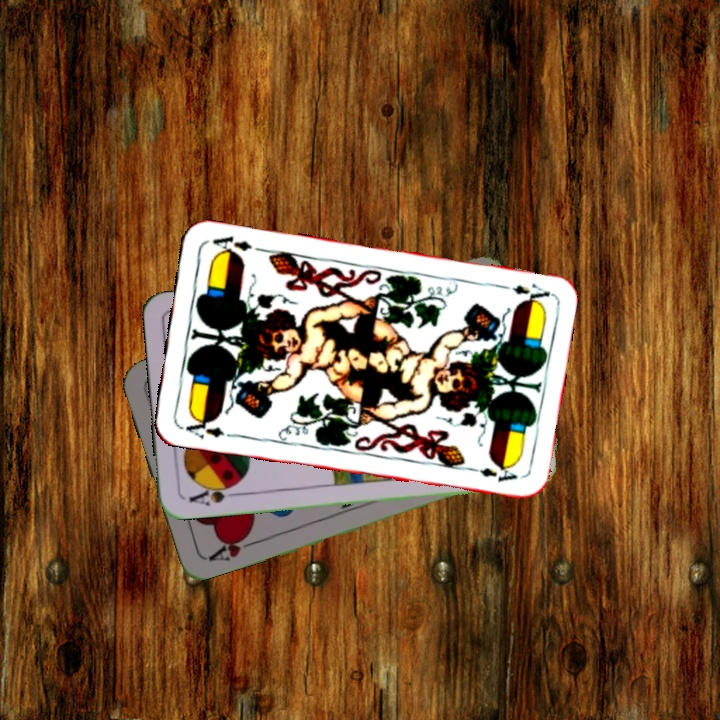EA: (493, 279, 552, 306), (182, 412, 227, 442)
HA: (202, 528, 259, 564)
SA: (185, 479, 241, 509)
